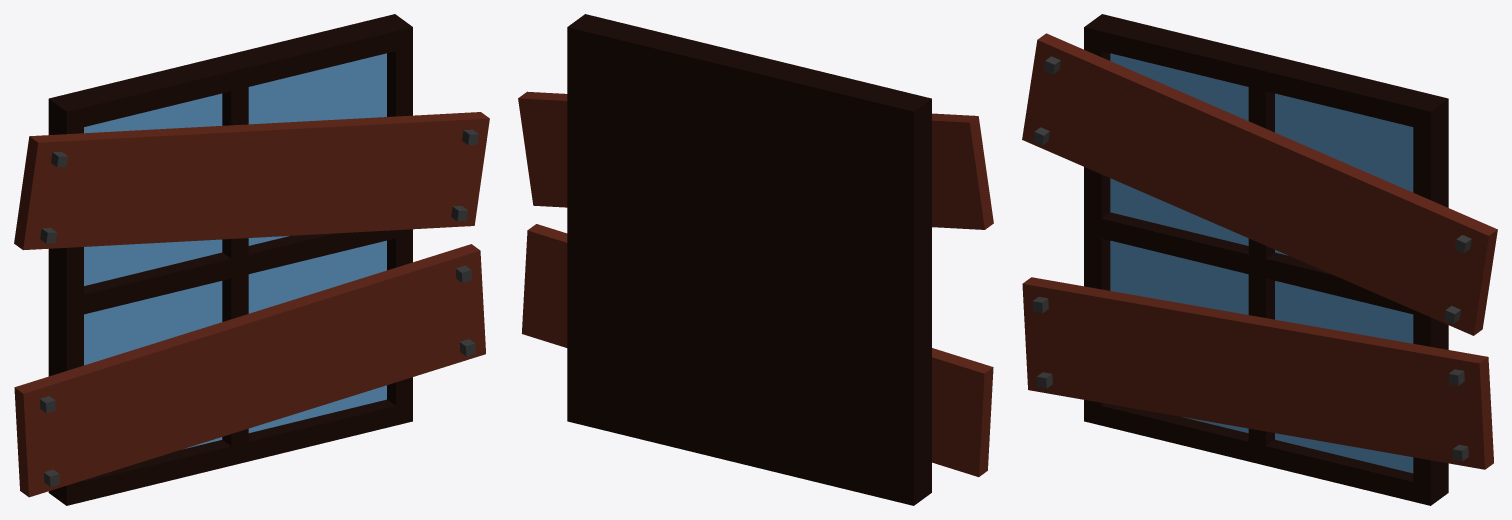
The model's file is BrokenWindow_House.fbx.
3 renders of one model, left to right at view 1: azimuth 30°, elevation 25°; view 2: azimuth 150°, elevation 25°; view 3: azimuth 330°, elevation 25°, orthographic.
Visible parts, largest first — view 1: Mesh; view 2: Mesh; view 3: Mesh.
Part boxes in pixels (x1,y1,x2,y2): Mesh: (14, 14, 489, 505); Mesh: (518, 14, 993, 505); Mesh: (1022, 14, 1497, 505).
Size of the model in its own units: 194 by 157 by 24.1.
